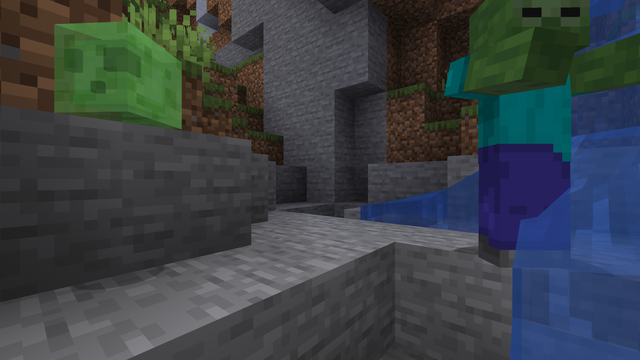slimes: (61, 5, 180, 132)
zombies: (468, 1, 583, 284)
